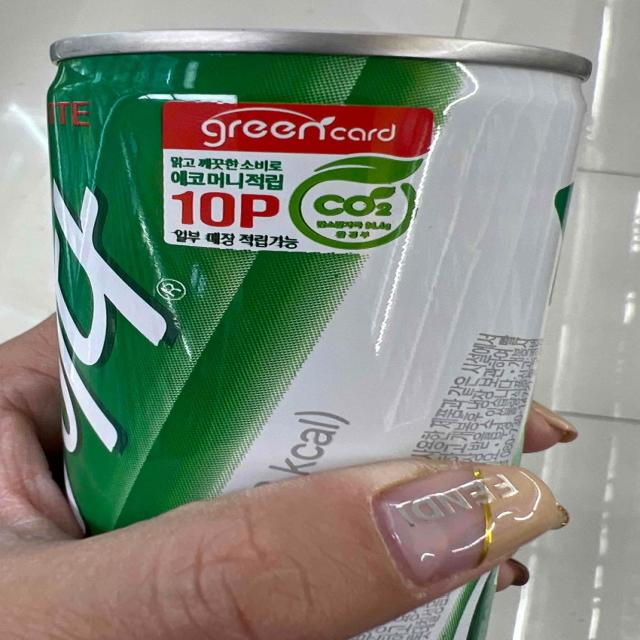can: (49, 33, 603, 554)
